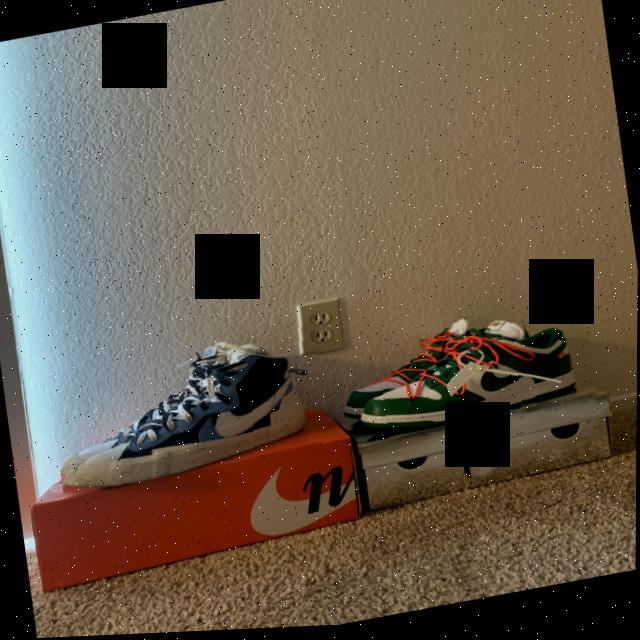shoe: (47, 322, 335, 505), (343, 304, 602, 459)
